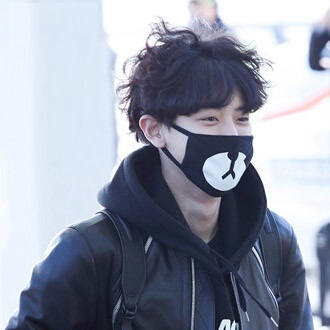face_mask: (174, 82, 252, 197)
